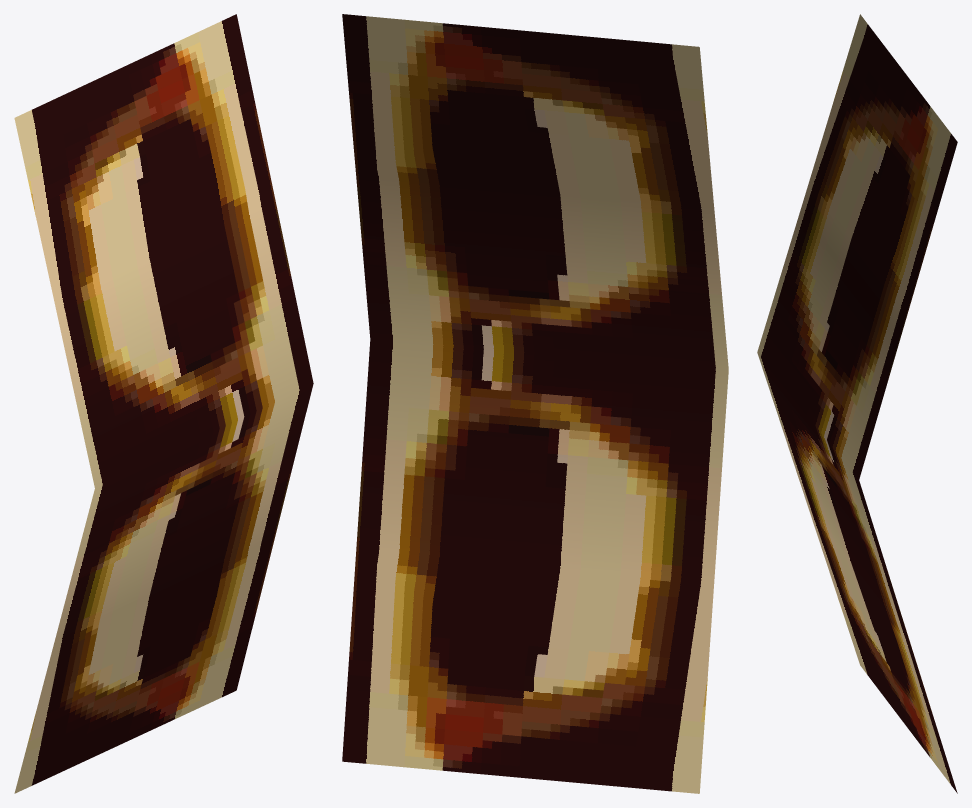
Rendered from acc_glass_tortoise.dae.
3 renders of one model, left to right at view 1: azimuth 30°, elevation 25°; view 2: azimuth 150°, elevation 25°; view 3: azimuth 270°, elevation 25°, orthographic. The views are drawn at different scales.
Parts seen in each view (by area): view 1: acc_glass_tortoise; view 2: acc_glass_tortoise; view 3: acc_glass_tortoise.
Boxes of the visible parts, x1=… form: acc_glass_tortoise: x1=14, y1=14, x2=313, y2=793; acc_glass_tortoise: x1=342, y1=14, x2=728, y2=793; acc_glass_tortoise: x1=757, y1=14, x2=957, y2=793.
Bounding box in the file's own units: 9.03 × 19.55 × 5.45.
Materials: 1 (1 with a texture image).
